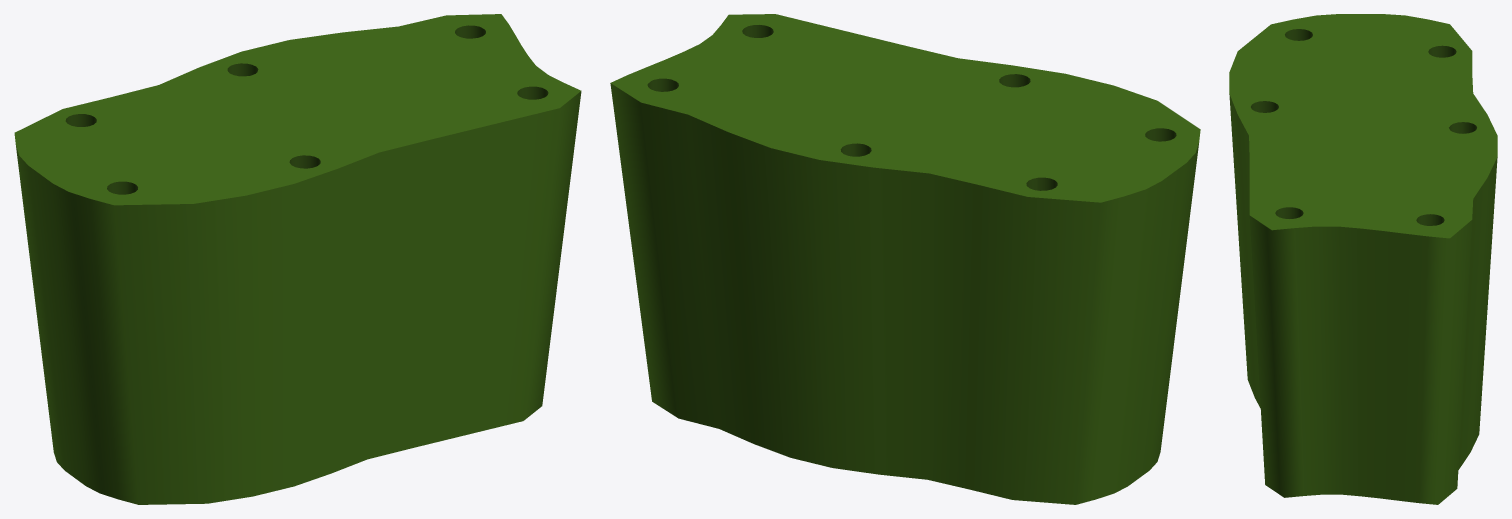
The picture shows the model from 3 angles, left to right: view 1: azimuth 30°, elevation 25°; view 2: azimuth 150°, elevation 25°; view 3: azimuth 270°, elevation 25°; orthographic projection. The views are drawn at different scales.
Visible parts, largest first — view 1: polySurface1; view 2: polySurface1; view 3: polySurface1.
Part boxes in pixels (left/top/right/bottom): polySurface1: left=14, top=14, right=581, bottom=504; polySurface1: left=610, top=14, right=1200, bottom=504; polySurface1: left=1229, top=14, right=1497, bottom=504.
Size of the model in its own units: 5959 by 5140 by 10180.
